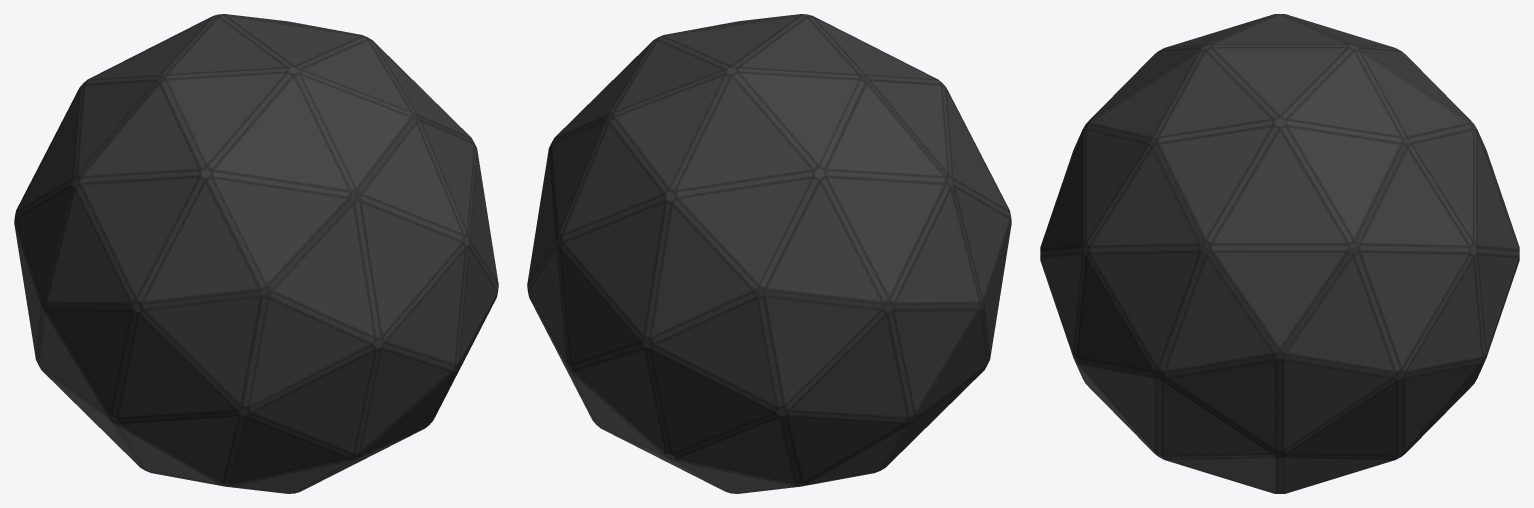
File: Combustible_02.fbx
The picture shows the model from 3 angles, left to right: view 1: azimuth 30°, elevation 25°; view 2: azimuth 150°, elevation 25°; view 3: azimuth 270°, elevation 25°; orthographic projection. The views are drawn at different scales.
Parts seen in each view (by area): view 1: Combustible_02; view 2: Combustible_02; view 3: Combustible_02.
Part boxes in pixels (<box>): Combustible_02: <box>14,14,498,493</box>; Combustible_02: <box>527,14,1011,493</box>; Combustible_02: <box>1040,14,1519,493</box>.
Bounding box in the file's own units: 0.4077 × 0.3903 × 0.407.
Materials: 1 (1 with a texture image).
